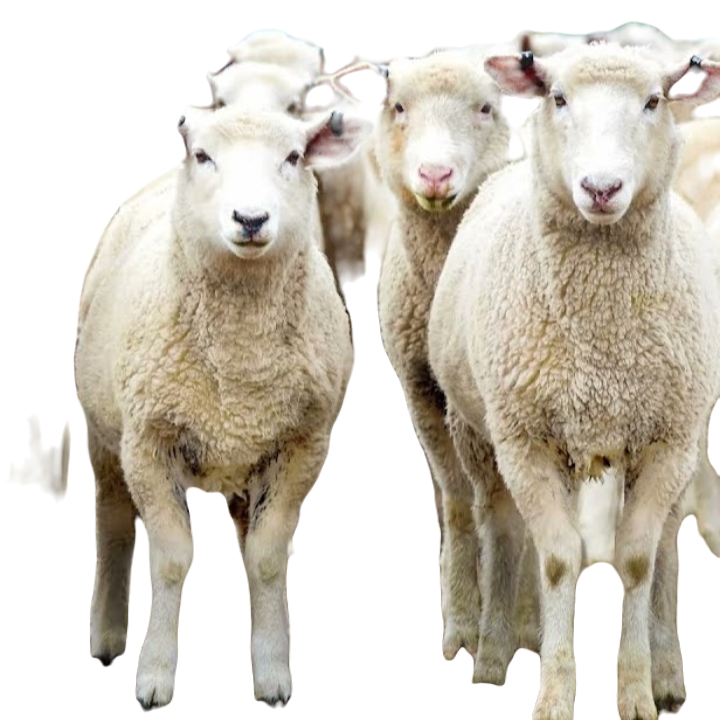Sheep: (69, 97, 368, 719), (479, 25, 719, 719), (367, 42, 520, 222)
